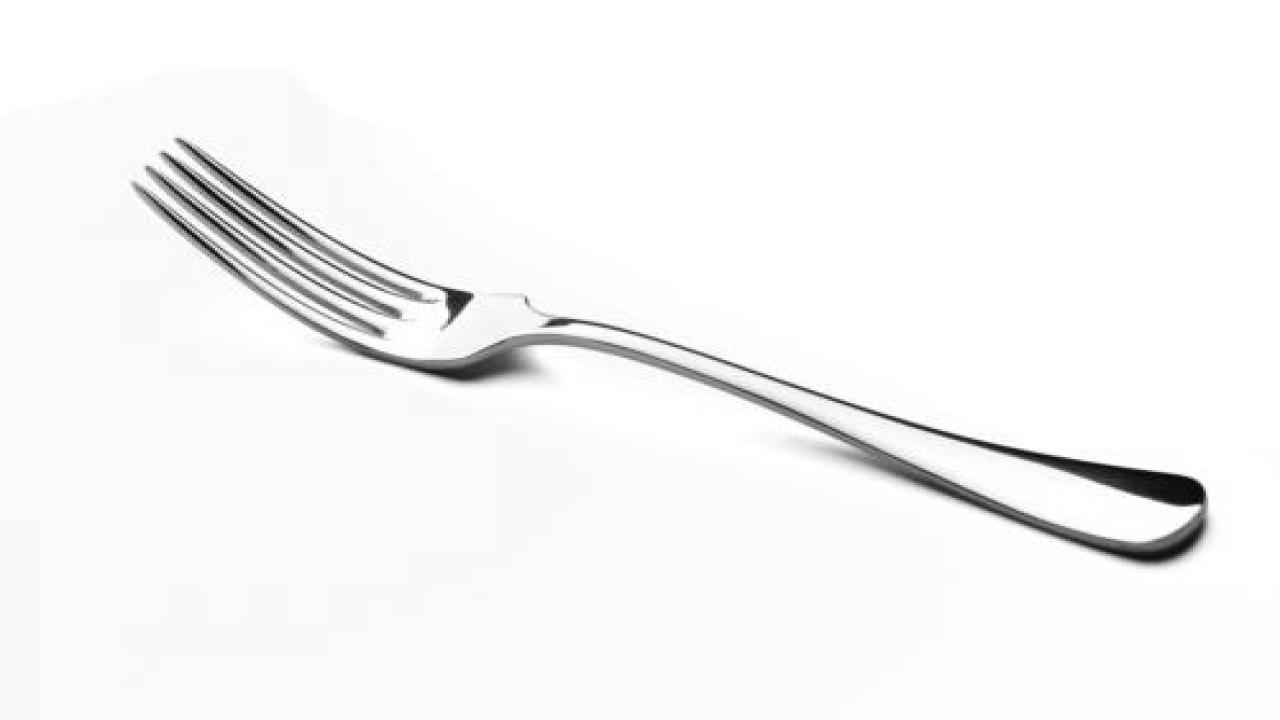fork: (128, 134, 1208, 560)
